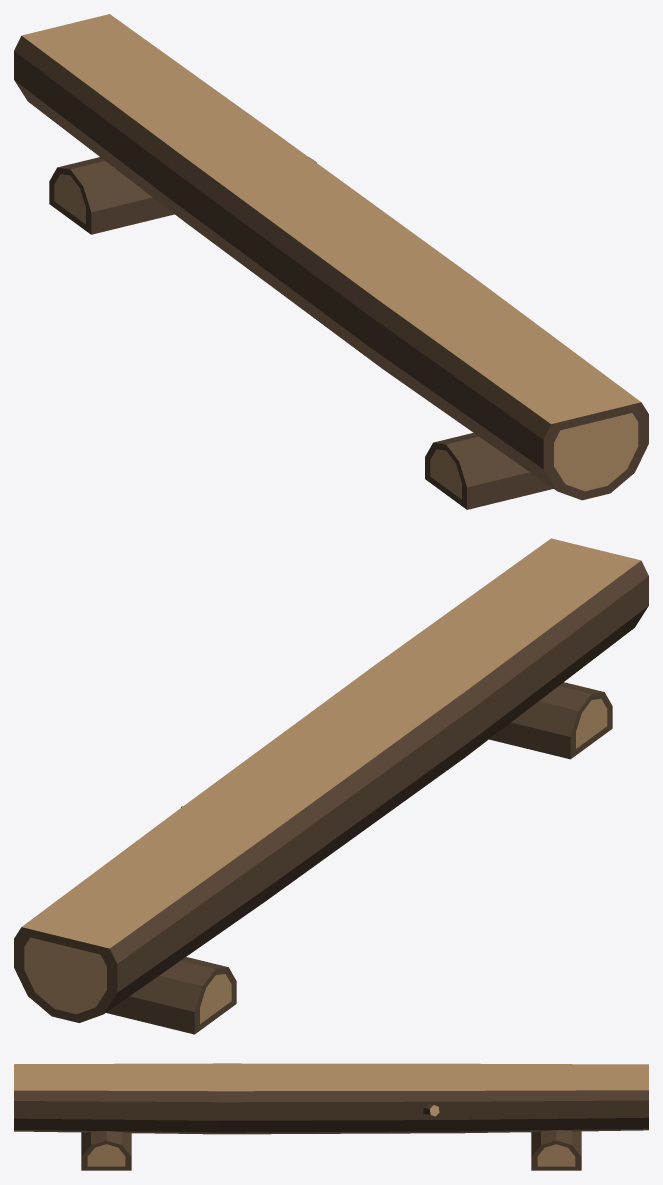
3 renders of one model, top to bottom at view 1: azimuth 30°, elevation 25°; view 2: azimuth 150°, elevation 25°; view 3: azimuth 270°, elevation 25°, orthographic. The views are drawn at different scales.
Visible parts, largest first — view 1: C06_geo; view 2: C06_geo; view 3: C06_geo.
Part boxes in pixels (left/top/right/bottom): C06_geo: left=14, top=14, right=648, bottom=509; C06_geo: left=14, top=538, right=648, bottom=1034; C06_geo: left=14, top=1063, right=648, bottom=1170.
Bounding box in the file's own units: 0.76 × 0.6 × 4.8.
